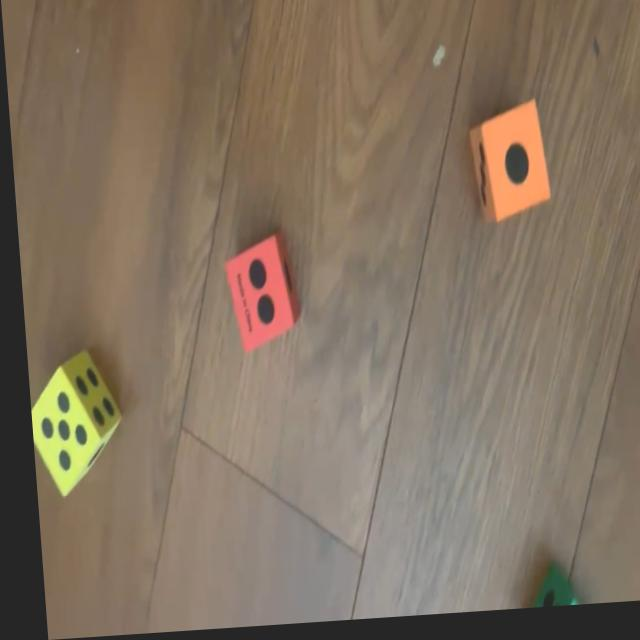cube: (217, 232, 295, 356), (515, 574, 568, 615)
